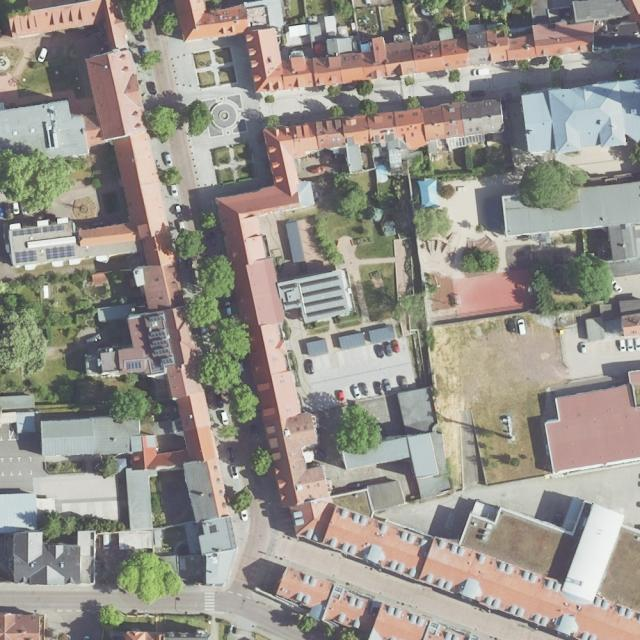PV: (149, 315, 173, 365), (13, 225, 65, 236), (46, 246, 74, 259), (15, 251, 38, 263), (127, 362, 142, 369)
